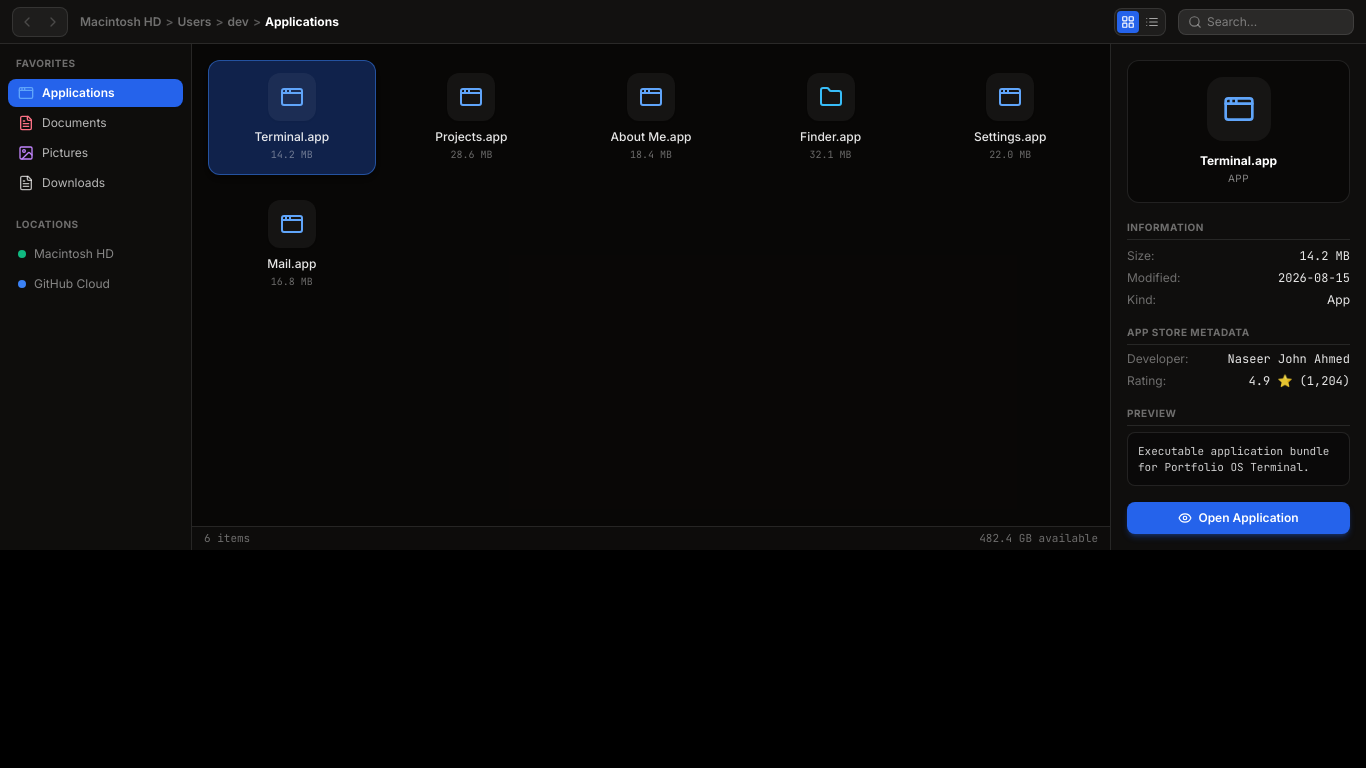
Applications Suite: 6 macOS Interactive Applications › FinderApp › navigates to Documents folder when clicked in sidebar
Click the button with test id "finder-sidebar-docs" at (96, 123), box left=8, top=109, right=183, bottom=137
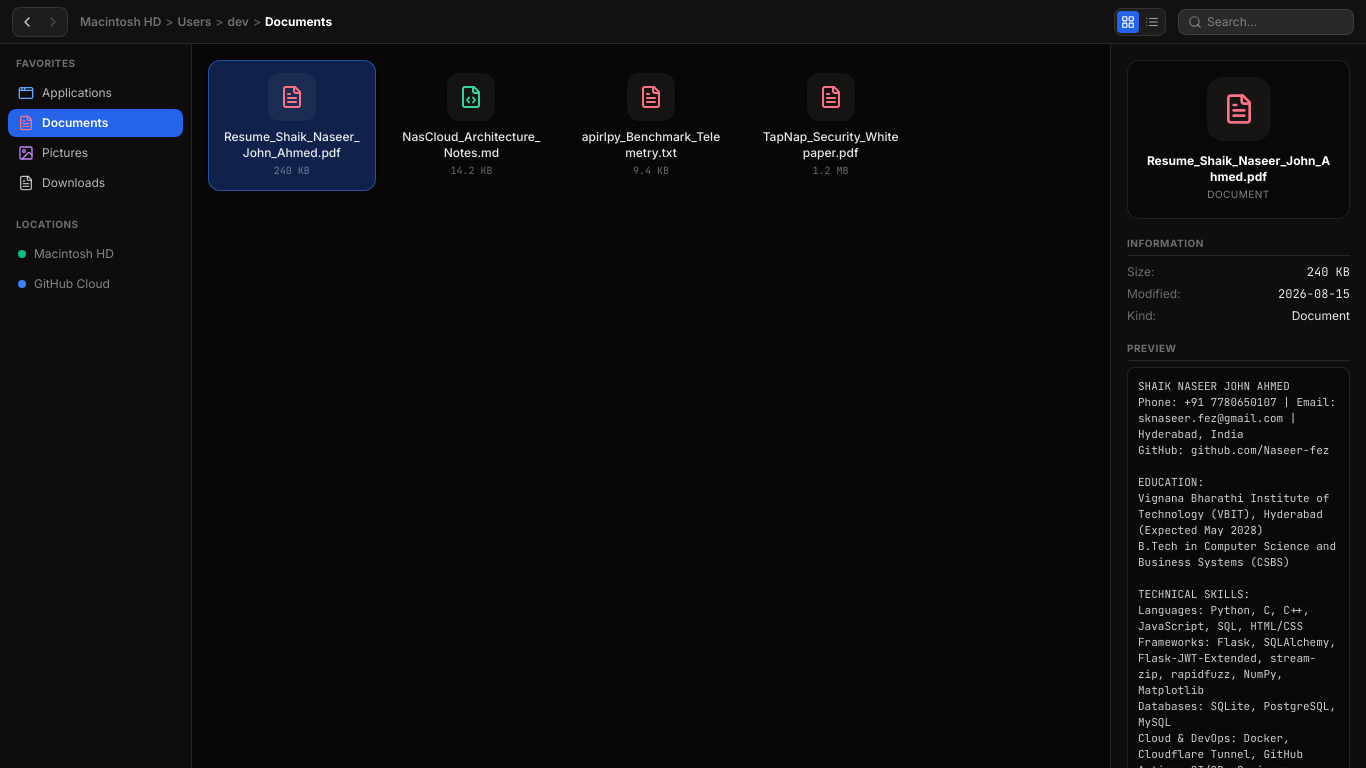
Now the element with test id "finder-item-doc-resume" is shown, box left=208, top=60, right=376, bottom=191
Now the element with test id "finder-item-doc-arch-notes" is shown, box left=402, top=73, right=540, bottom=177
